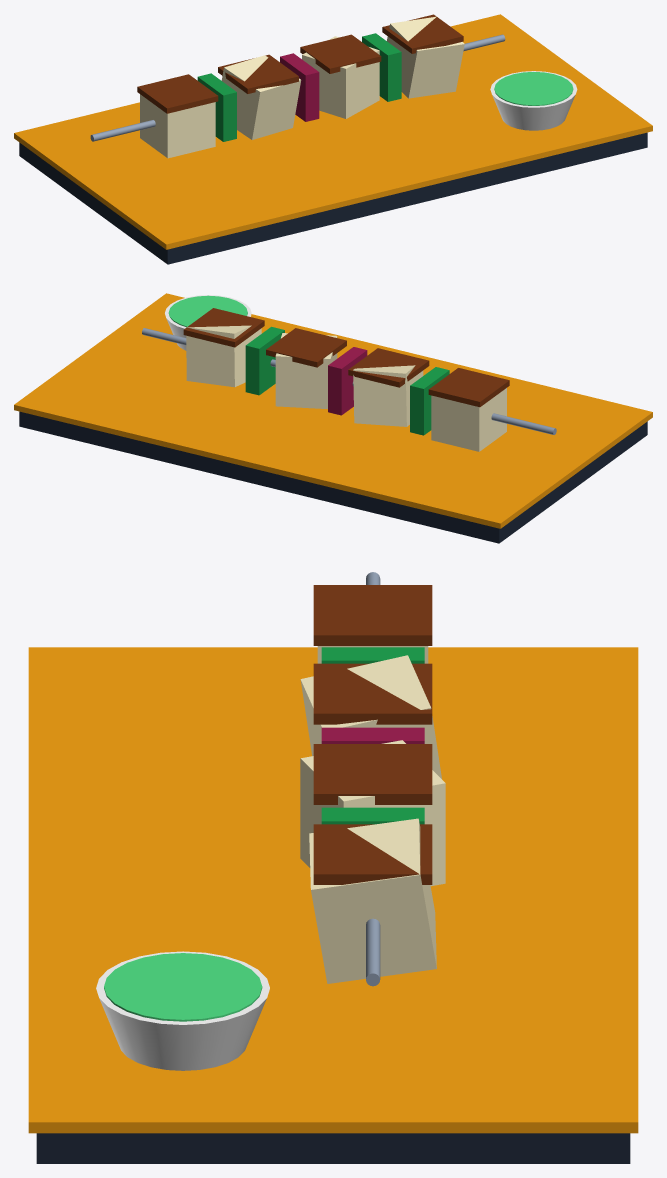
The model's file is paneer-tikka.glb.
3 views of the same model, one above another, from view 1: azimuth 30°, elevation 25°; view 2: azimuth 150°, elevation 25°; view 3: azimuth 270°, elevation 25° (orthographic). The views are drawn at different scales.
Size of the model in its own units: 0.284 by 0.0522 by 0.154.
